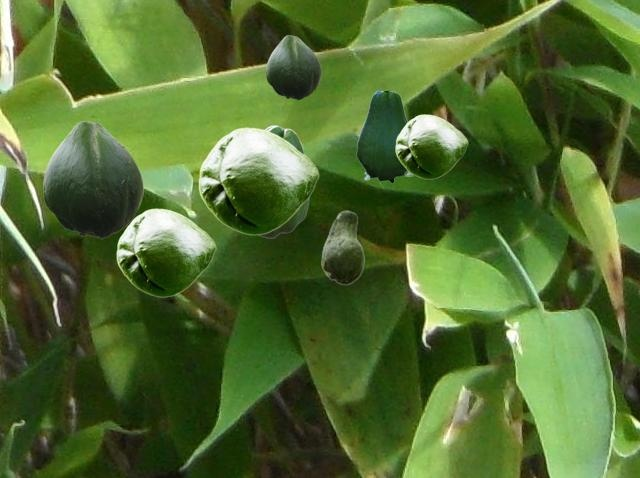sayote: (198, 127, 318, 234), (43, 121, 142, 238), (116, 208, 215, 296), (258, 125, 308, 237), (356, 91, 413, 184), (395, 114, 467, 178), (266, 35, 320, 99), (321, 210, 363, 284)
